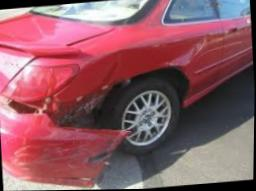Bumper: (0, 92, 135, 190)
Fender: (51, 33, 213, 101)
